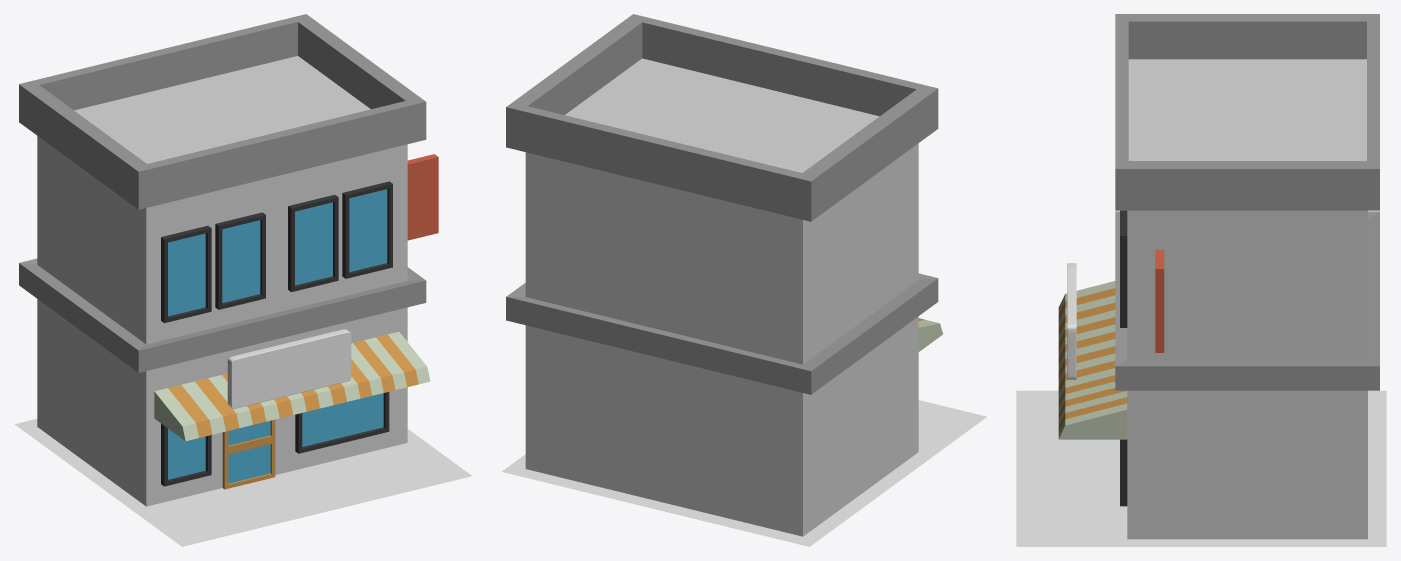
The model's file is Building04.fbx.
3 renders of one model, left to right at view 1: azimuth 30°, elevation 25°; view 2: azimuth 150°, elevation 25°; view 3: azimuth 270°, elevation 25°, orthographic. The views are drawn at different scales.
Parts seen in each view (by area): view 1: Plane.014, Plane.025, Plane.023, Plane.024, Plane.021, Plane.020, Plane.019, Plane.022, Plane.017, Plane.016, Plane.015, Plane.018; view 2: Plane.014, Plane.025; view 3: Plane.014, Plane.025, Plane.023, Plane.024, Plane.015, Plane.021, Plane.017.
Boxes of the visible parts, bbox=[...] form: Plane.014: bbox=[19, 14, 426, 506]; Plane.025: bbox=[15, 419, 471, 546]; Plane.023: bbox=[154, 331, 430, 441]; Plane.024: bbox=[227, 329, 351, 408]; Plane.021: bbox=[342, 181, 392, 278]; Plane.020: bbox=[215, 212, 265, 309]; Plane.019: bbox=[161, 225, 211, 322]; Plane.022: bbox=[288, 194, 338, 291]; Plane.017: bbox=[295, 392, 389, 453]; Plane.016: bbox=[222, 419, 275, 489]; Plane.015: bbox=[407, 154, 438, 240]; Plane.018: bbox=[161, 423, 211, 486]; Plane.014: bbox=[506, 14, 938, 536]; Plane.025: bbox=[502, 400, 986, 546]; Plane.014: bbox=[1115, 14, 1379, 539]; Plane.025: bbox=[1016, 390, 1386, 546]; Plane.023: bbox=[1058, 281, 1127, 439]; Plane.024: bbox=[1067, 263, 1076, 379]; Plane.015: bbox=[1155, 249, 1164, 352]; Plane.021: bbox=[1120, 210, 1127, 327]; Plane.017: bbox=[1120, 439, 1127, 506].
Size of the model in its own units: 880 by 900 by 800.
